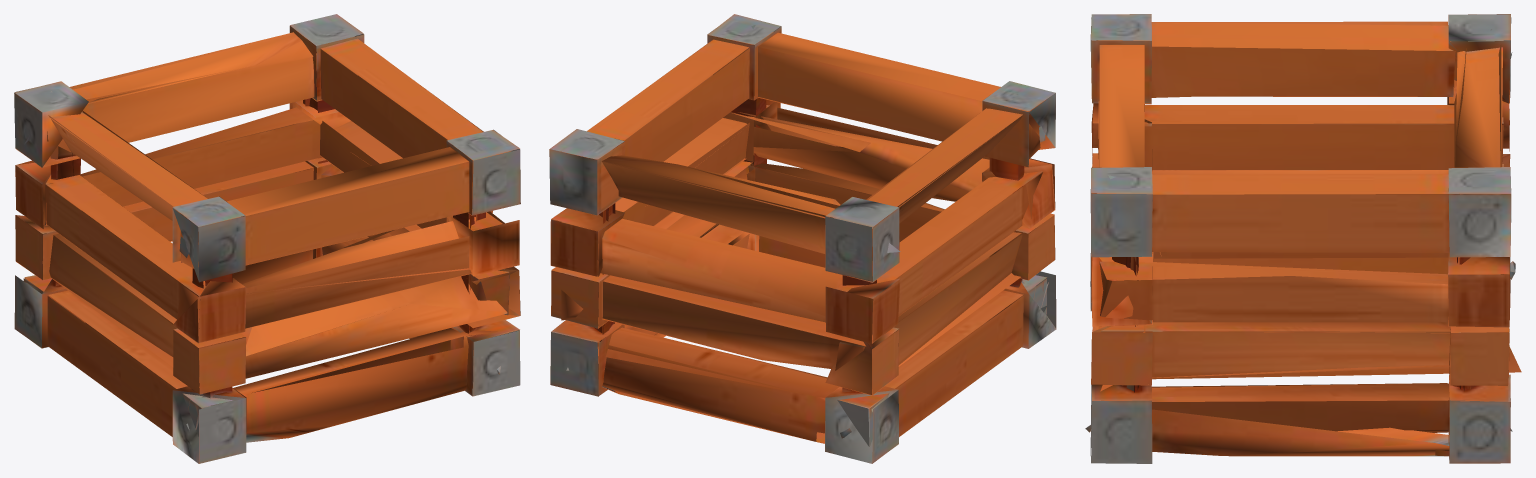
File: crate_3.glb
The picture shows the model from 3 angles, left to right: view 1: azimuth 30°, elevation 25°; view 2: azimuth 150°, elevation 25°; view 3: azimuth 270°, elevation 25°; orthographic projection. The views are drawn at different scales.
Visible parts, largest first — view 1: Mesh_0; view 2: Mesh_0; view 3: Mesh_0.
Part boxes in pixels (x1,y1,x2,y2): Mesh_0: [14, 14, 520, 463]; Mesh_0: [549, 14, 1056, 463]; Mesh_0: [1085, 14, 1521, 463].
Size of the model in its own units: 0.6066 by 0.4242 by 0.6047.
1 material, 1 textured.
